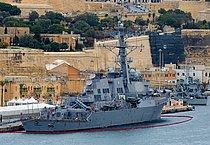MIL_Ship: (19, 34, 165, 132)
